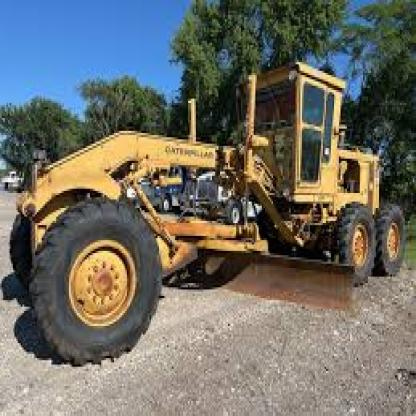bull_dozer/loader/grader: (8, 34, 411, 382)
